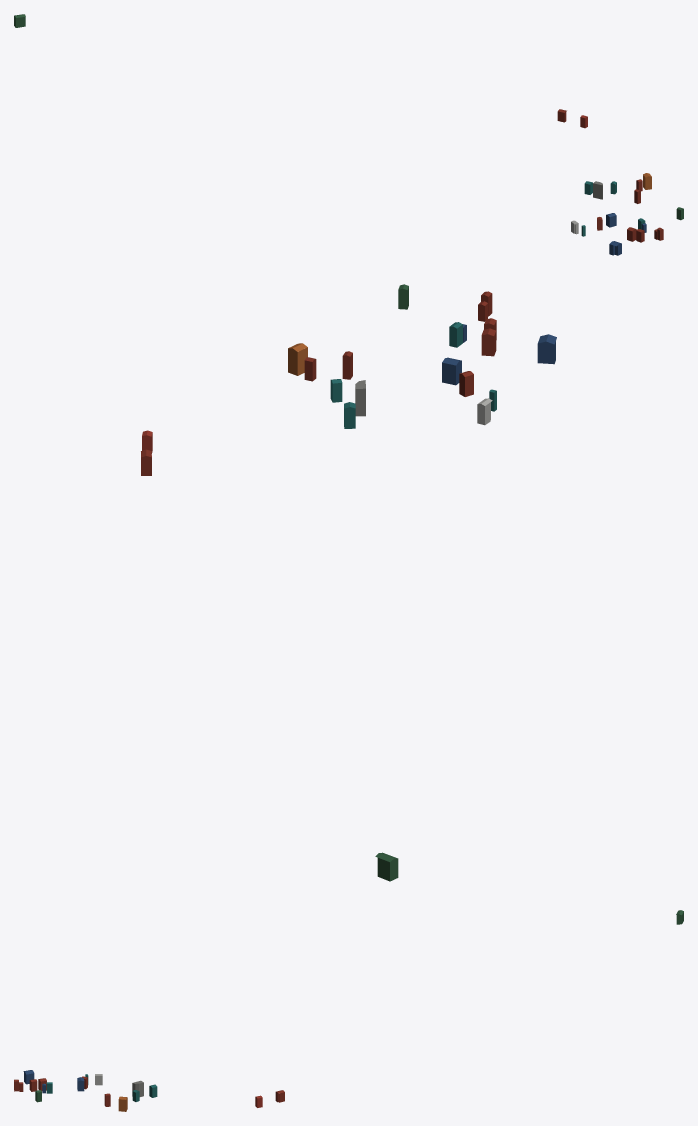
File: near-15-27357-14858.1e7c2159.glb
3 renders of one model, top to bottom at view 1: azimuth 30°, elevation 25°; view 2: azimuth 150°, elevation 25°; view 3: azimuth 270°, elevation 25°, orthographic. The views are drawn at different scales.
Size of the model in its own units: 595 by 91.79 by 1022.
